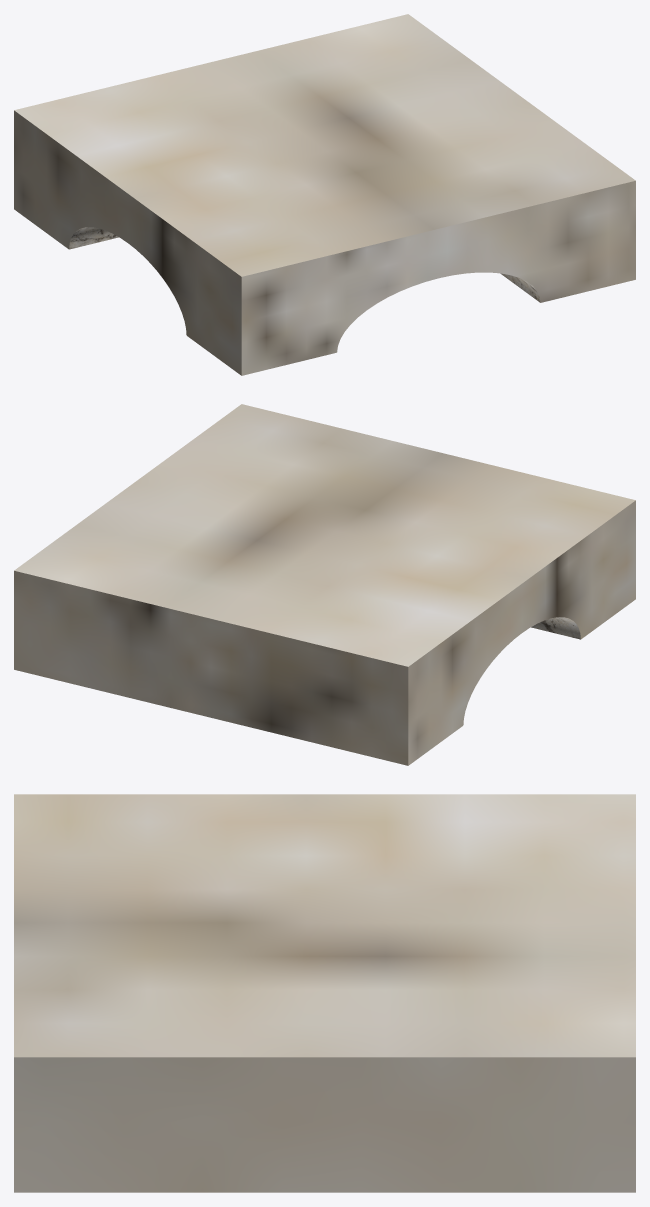
Rendered from ceiling_corner.fbx.
3 views of the same model, one above another, from view 1: azimuth 30°, elevation 25°; view 2: azimuth 150°, elevation 25°; view 3: azimuth 270°, elevation 25° (orthographic). The views are drawn at different scales.
Visible parts, largest first — view 1: Ceiling_corner; view 2: Ceiling_corner; view 3: Ceiling_corner.
Part boxes in pixels (<box>): Ceiling_corner: <box>14,14,635,375</box>; Ceiling_corner: <box>14,404,635,765</box>; Ceiling_corner: <box>14,794,635,1192</box>.
Bounding box in the file's own units: 2.5 × 2.5 × 0.6.
1 material, 1 textured.
